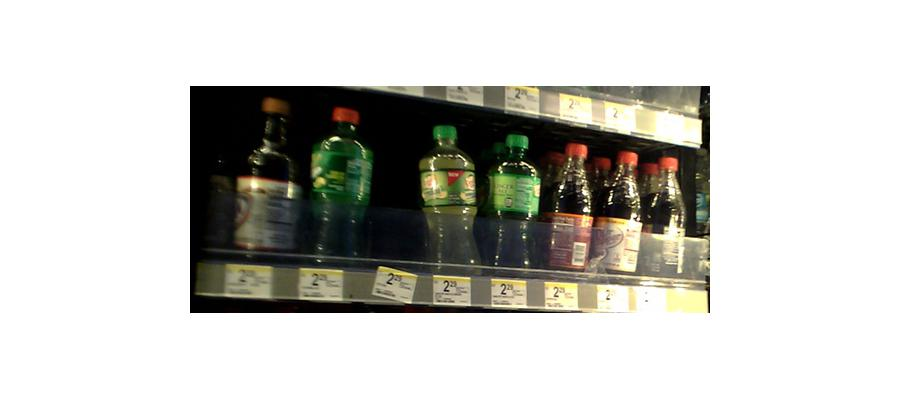bottle: (241, 93, 299, 263), (307, 111, 372, 259), (421, 124, 479, 273), (484, 134, 542, 273), (545, 138, 595, 279), (597, 145, 645, 277), (645, 146, 689, 280)
